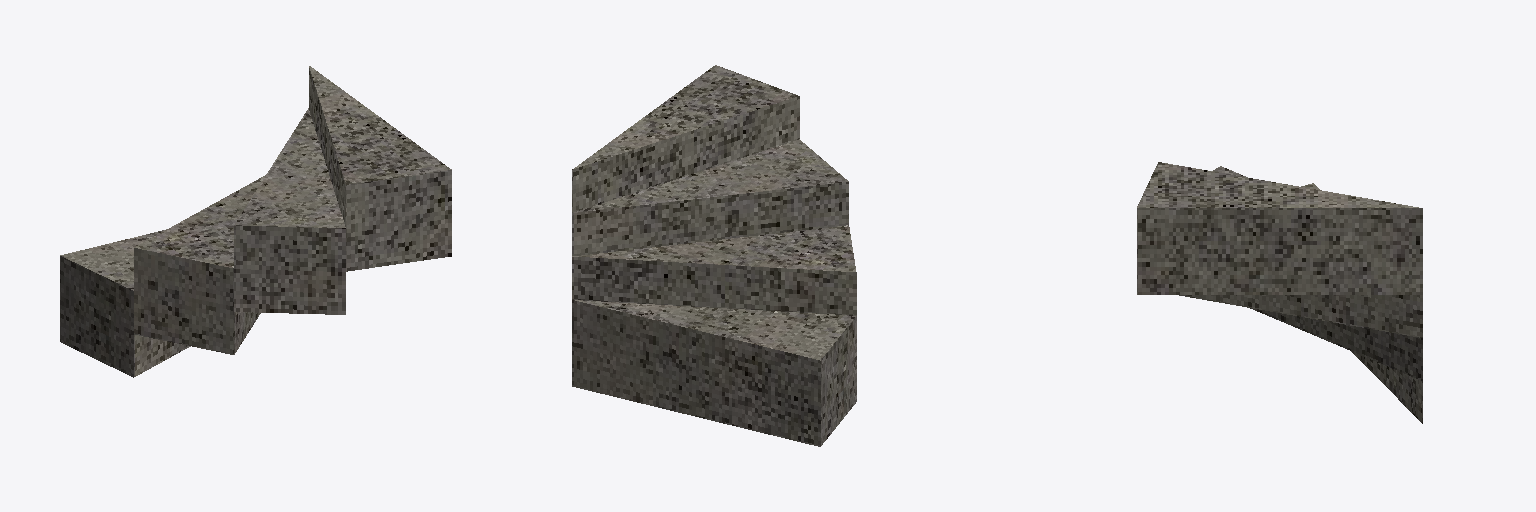
The picture shows the model from 3 angles: view 1: azimuth 30°, elevation 25°; view 2: azimuth 150°, elevation 25°; view 3: azimuth 270°, elevation 25°; orthographic projection.
Bounding box in the file's own units: 1 × 0.8333 × 1.
Materials: 1 (1 with a texture image).